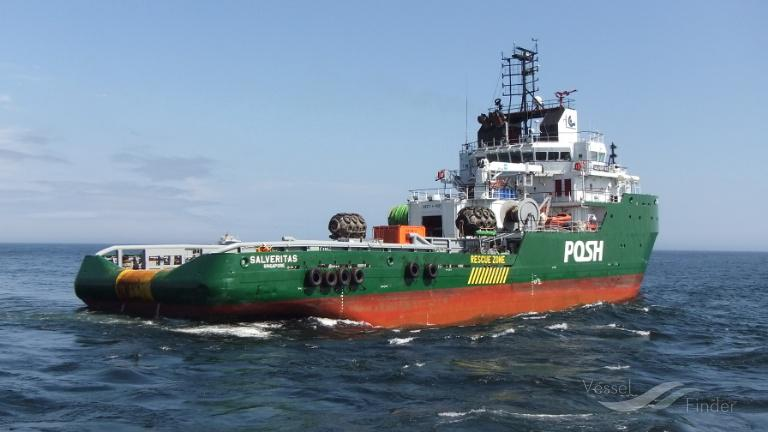OCR: (556, 236, 617, 272), (239, 245, 303, 273), (466, 250, 508, 267)
